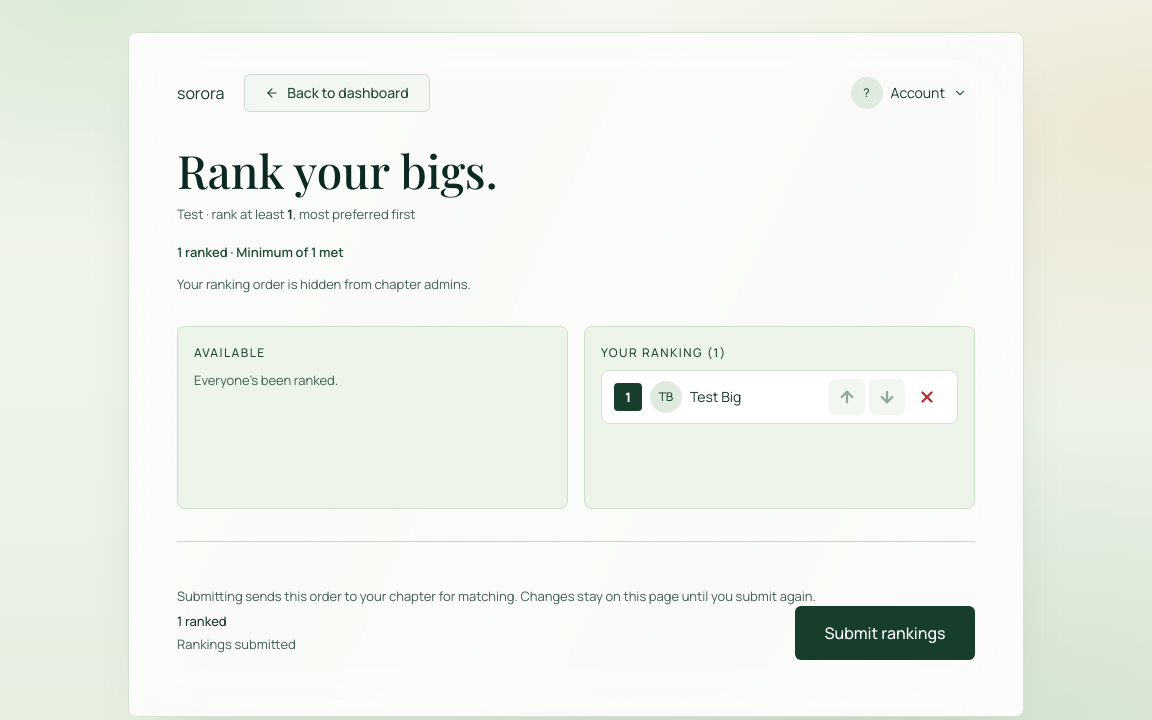
Scenario: ranking controls identify the member and action
Expected: the button named "Move Test Big up" is disabled, top-left (829, 379), bottom-right (865, 415)
Click the button named "Remove Test Big from ranking": [927, 397] box top-left (909, 379), bottom-right (945, 415)
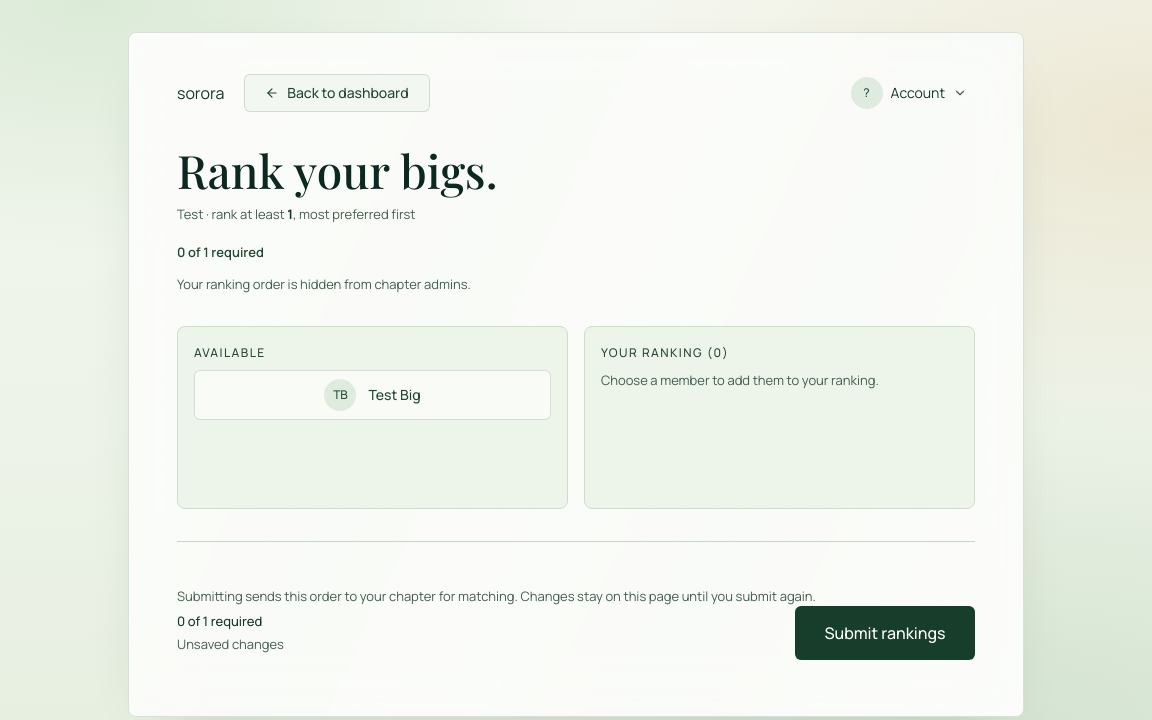
Result: the text "Your ranking (0)" is shown at top-left (601, 344), bottom-right (729, 361)
